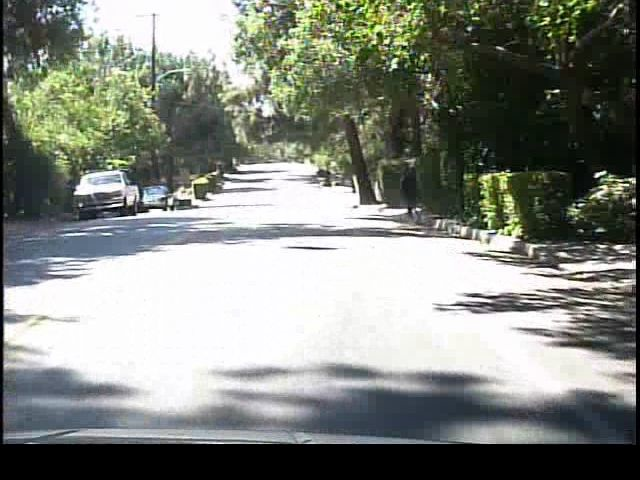person: (400, 163, 422, 221)
